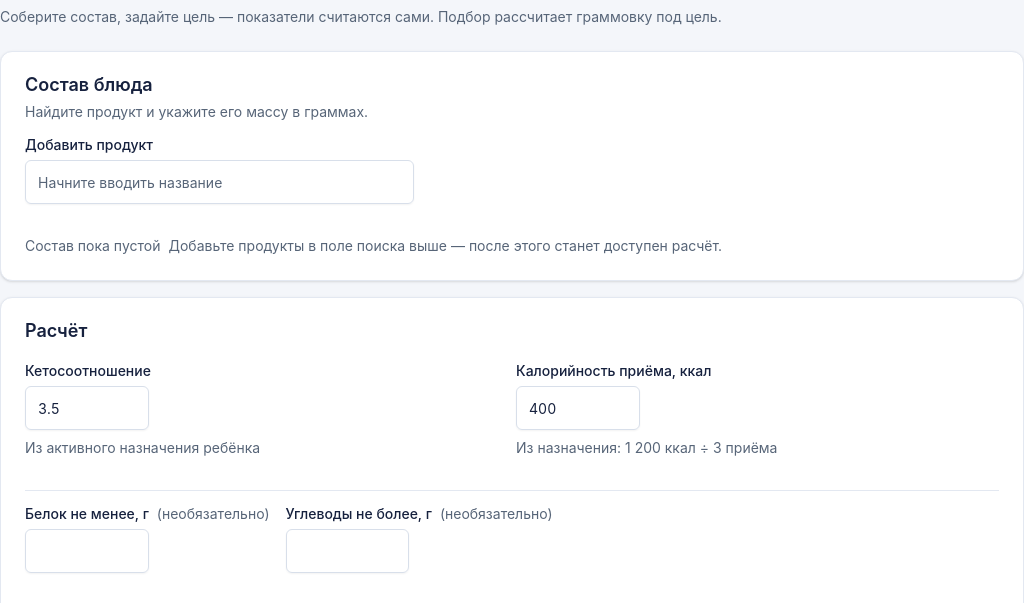
Test case: калькулятор › после успешного повтора в карте ребёнка снова можно сохранить
Type "масло" into the dropdown labelled "Добавить продукт" at (219, 182), box left=25, top=160, right=414, bottom=204
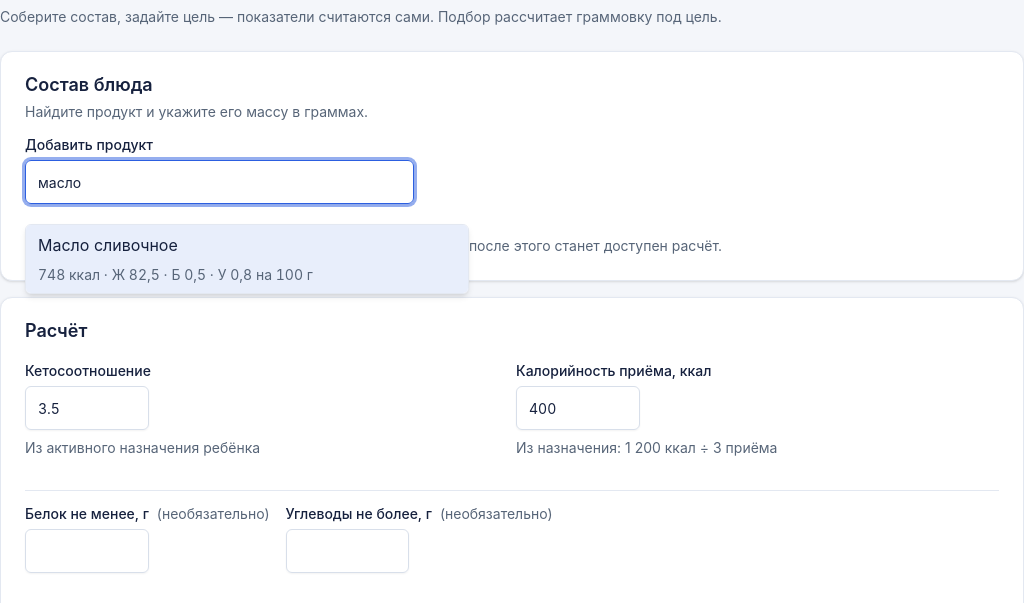
Click the option "Масло сливочное 748 ккал · Ж 82,5 · Б 0,5 · У 0,8 на 100 г" at (108, 245), box left=26, top=225, right=468, bottom=293
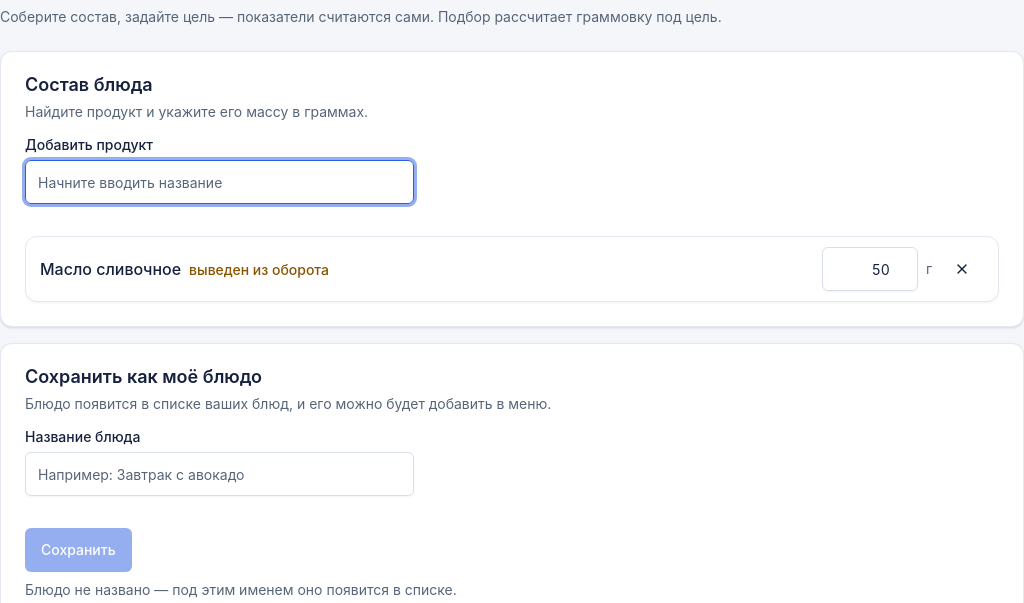
Type "Суп" into the field labelled "Название блюда" at (219, 474), box left=25, top=452, right=414, bottom=496
(page scrolled)
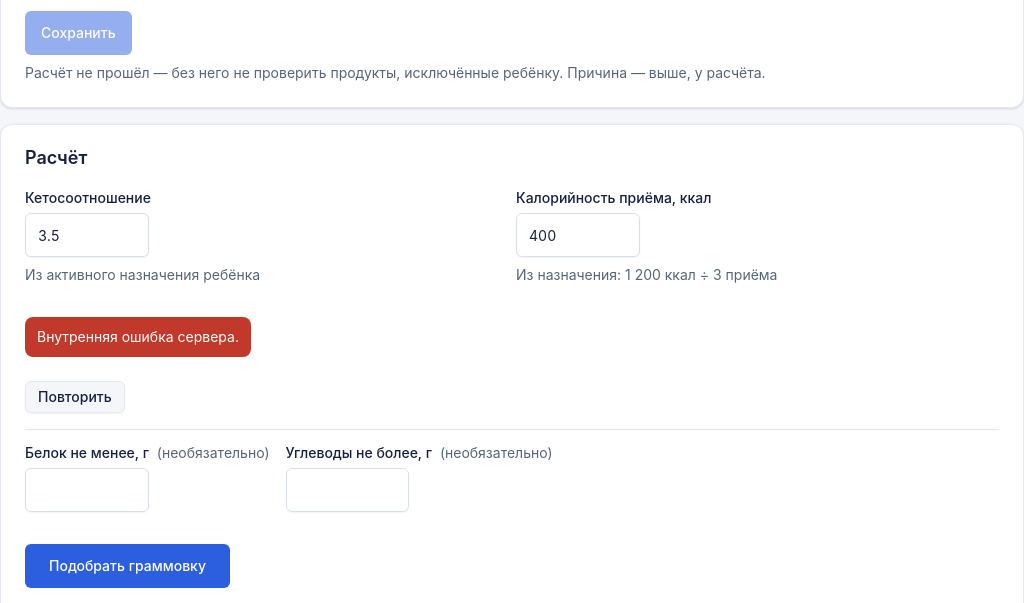
Now the button "Сохранить" is disabled, box left=25, top=11, right=132, bottom=55
Click the button "Повторить" at (75, 397), box left=25, top=381, right=125, bottom=413
(page scrolled)
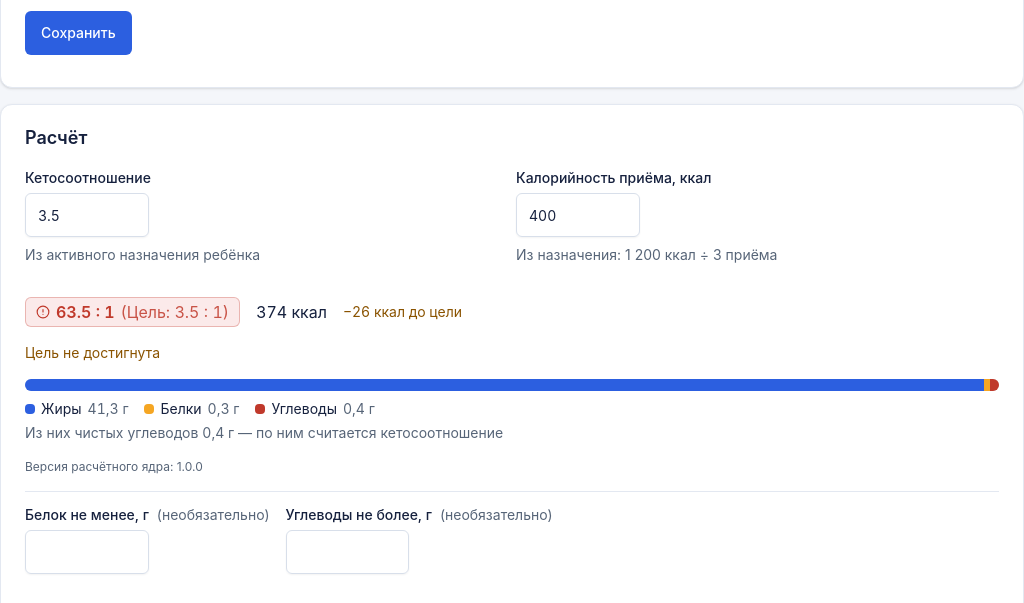
Now the button "Сохранить" is enabled, box left=25, top=11, right=132, bottom=55
